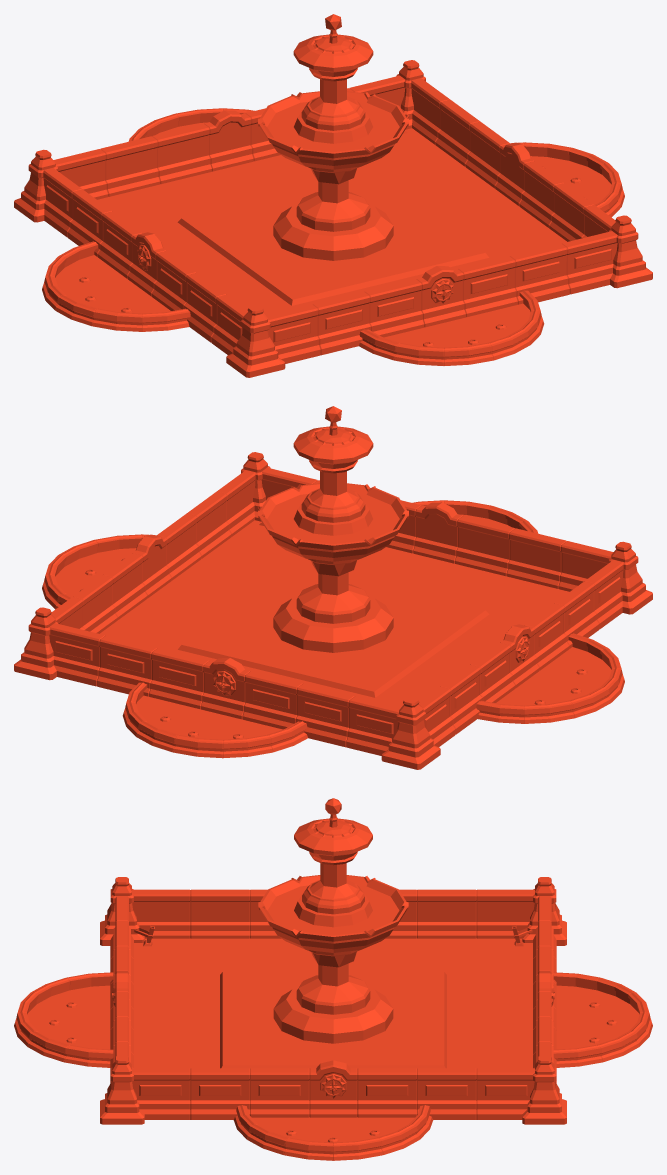
Rendered from SM_Fontaine_Fancy_City.fbx.
3 renders of one model, top to bottom at view 1: azimuth 30°, elevation 25°; view 2: azimuth 150°, elevation 25°; view 3: azimuth 270°, elevation 25°, orthographic.
Parts seen in each view (by area): view 1: SM_Fontaine_Fancy_City; view 2: SM_Fontaine_Fancy_City; view 3: SM_Fontaine_Fancy_City.
Part boxes in pixels (x1,y1,x2,y2): SM_Fontaine_Fancy_City: (14, 14, 652, 377); SM_Fontaine_Fancy_City: (14, 406, 652, 769); SM_Fontaine_Fancy_City: (14, 798, 652, 1160).
Bounding box in the file's own units: 10.68 × 4.2 × 10.68.
